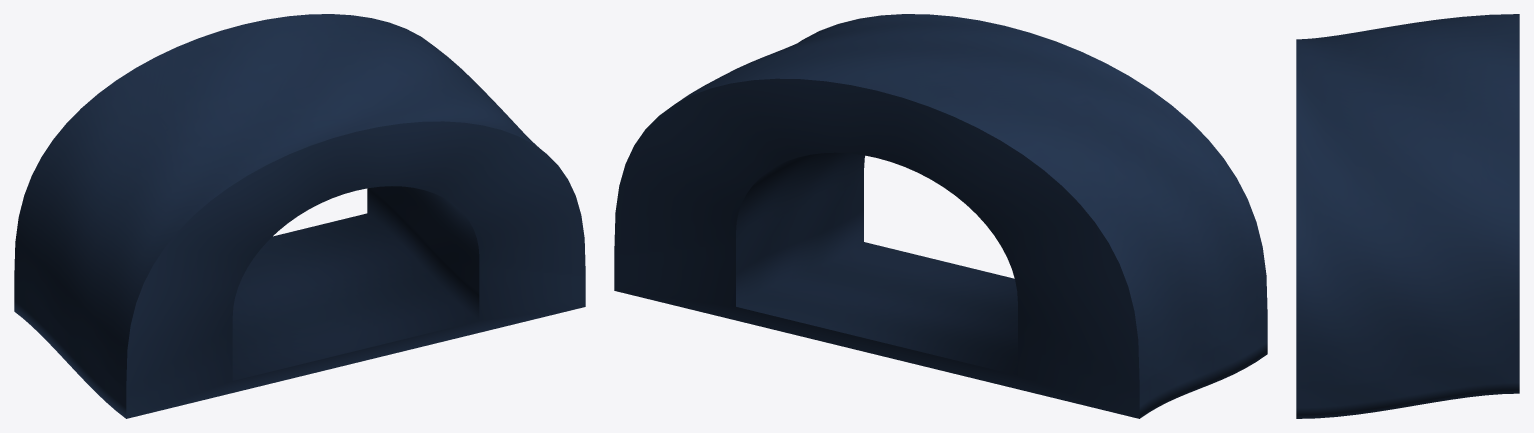
The model's file is grade_up_terrain.glb.
3 renders of one model, left to right at view 1: azimuth 30°, elevation 25°; view 2: azimuth 150°, elevation 25°; view 3: azimuth 270°, elevation 25°, orthographic. The views are drawn at different scales.
Parts seen in each view (by area): view 1: TerrainRoof.012; view 2: TerrainRoof.012; view 3: TerrainRoof.012.
Boxes of the visible parts, box(x1,y1,x2,y2) form: TerrainRoof.012: box(14, 14, 585, 418); TerrainRoof.012: box(614, 14, 1267, 418); TerrainRoof.012: box(1296, 14, 1519, 418).
Bounding box in the file's own units: 28.4 × 15.15 × 12.
